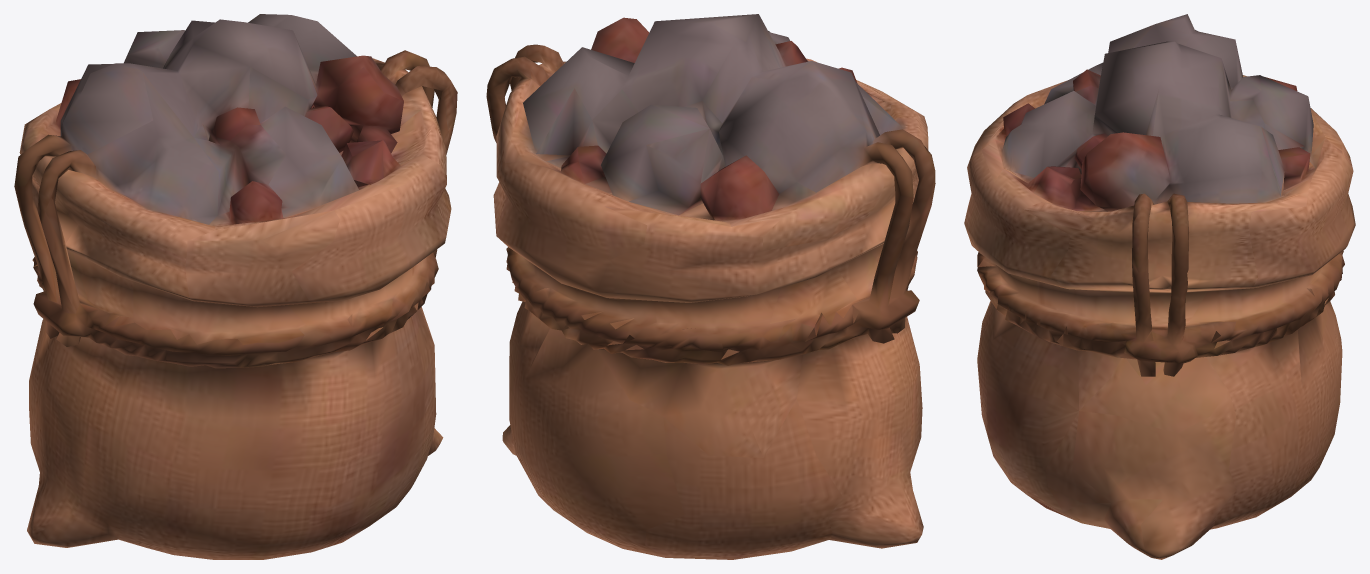
The model's file is back_sack_ore_idle.glb.
3 renders of one model, left to right at view 1: azimuth 30°, elevation 25°; view 2: azimuth 150°, elevation 25°; view 3: azimuth 270°, elevation 25°, orthographic. The views are drawn at different scales.
Visible parts, largest first — view 1: back_sack_ore; view 2: back_sack_ore; view 3: back_sack_ore.
Part boxes in pixels (x1,y1,x2,y2): back_sack_ore: (14, 14, 457, 559); back_sack_ore: (486, 14, 935, 559); back_sack_ore: (964, 14, 1355, 559).
Size of the model in its own units: 0.4638 by 0.4997 by 0.4114.
1 material, 1 textured.
